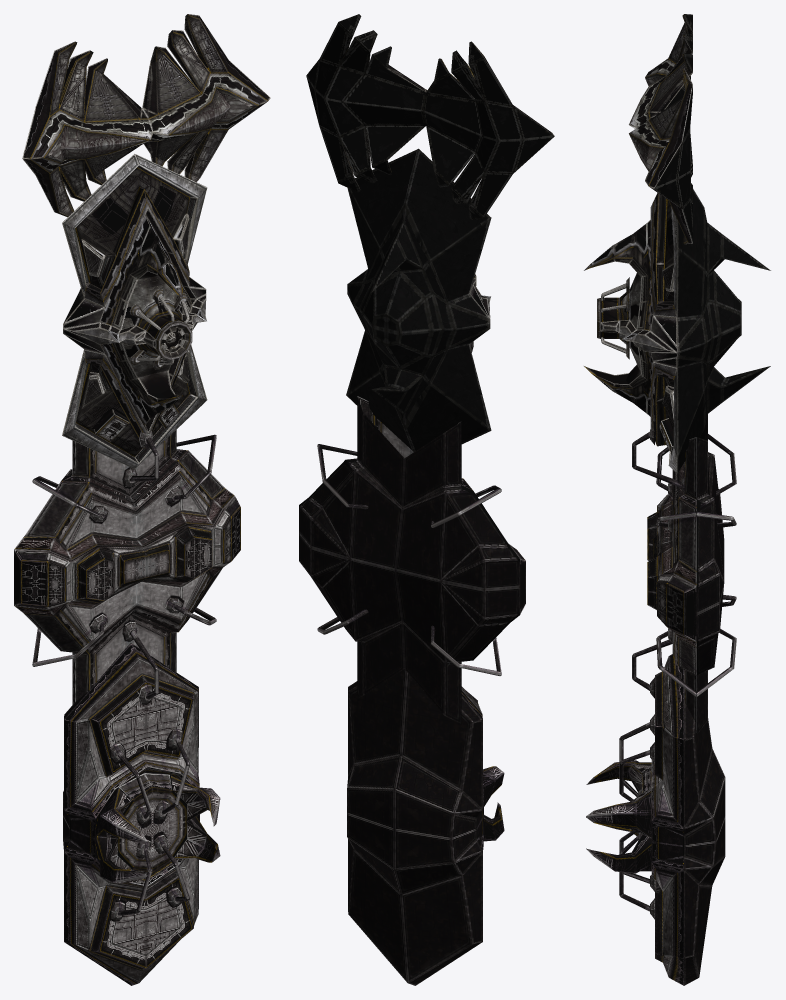
File: Vertical_Block.fbx
3 views of the same model, side by side, from view 1: azimuth 30°, elevation 25°; view 2: azimuth 150°, elevation 25°; view 3: azimuth 270°, elevation 25° (orthographic).
Visible parts, largest first — view 1: Block_01, Junction_01, Block, Junction; view 2: Junction_01, Block_01, Block, Junction; view 3: Block, Block_01, Junction_01, Junction.
Boxes of the visible parts, <box> form: Block_01: <box>63,643,220,985</box>; Junction_01: <box>14,427,240,704</box>; Block: <box>62,154,207,469</box>; Junction: <box>22,14,270,217</box>; Junction_01: <box>299,396,525,723</box>; Block_01: <box>347,669,504,985</box>; Block: <box>346,148,491,451</box>; Junction: <box>306,14,554,219</box>; Block: <box>584,189,770,473</box>; Block_01: <box>586,654,725,985</box>; Junction_01: <box>632,414,736,734</box>; Junction: <box>629,14,692,244</box>.
Size of the model in its own units: 20.52 by 75.57 by 13.65.
Materials: 2 (2 with a texture image).
